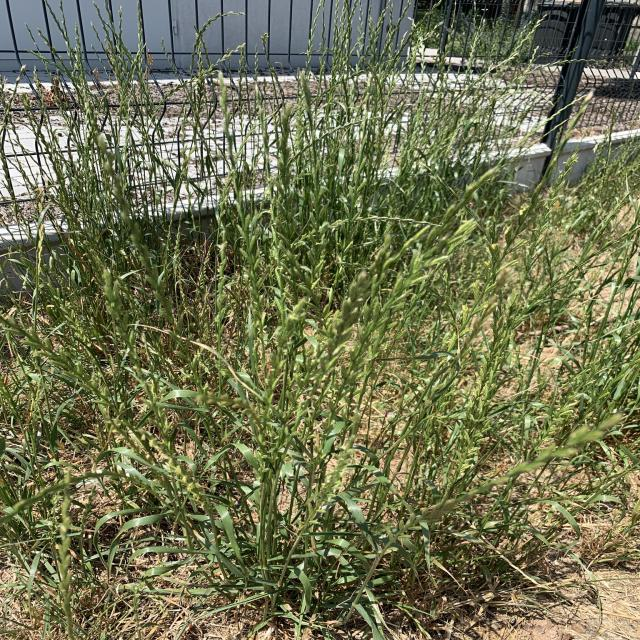Lolium: (3, 6, 636, 640), (208, 498, 582, 624), (267, 36, 358, 505)
